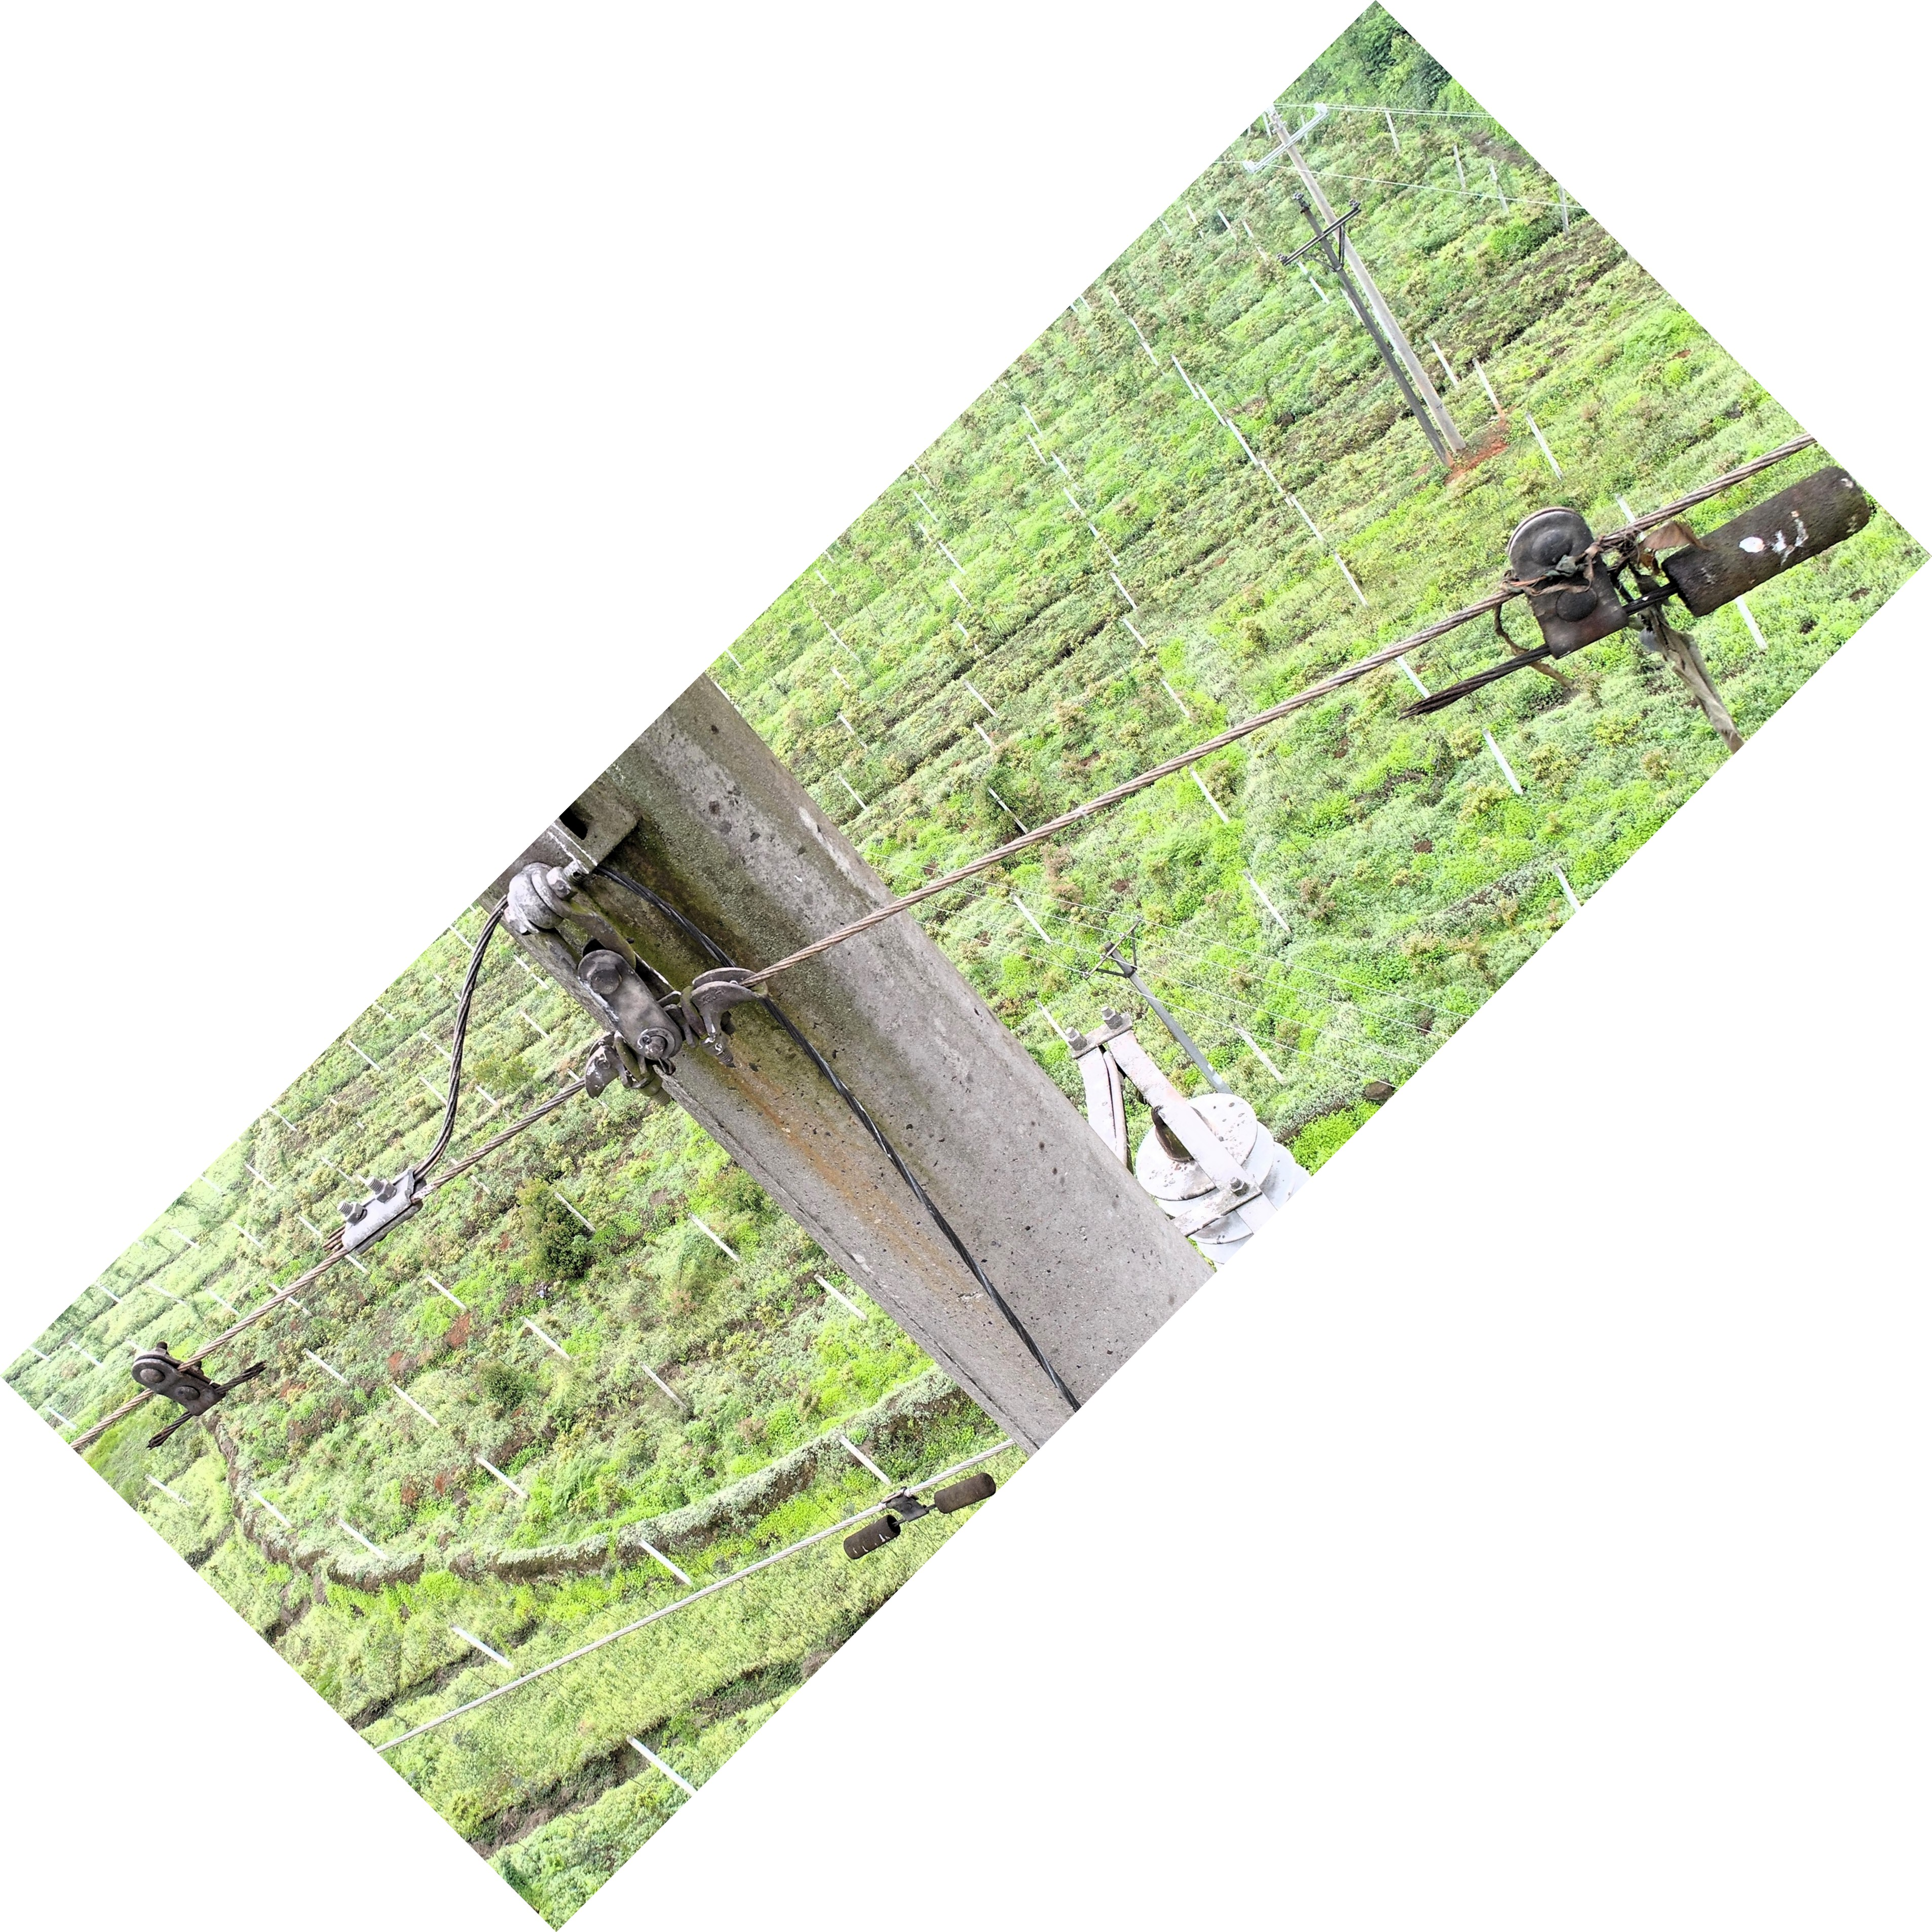Damage of shockproof hammer: (1378, 437, 1898, 740), (108, 1322, 287, 1468)
